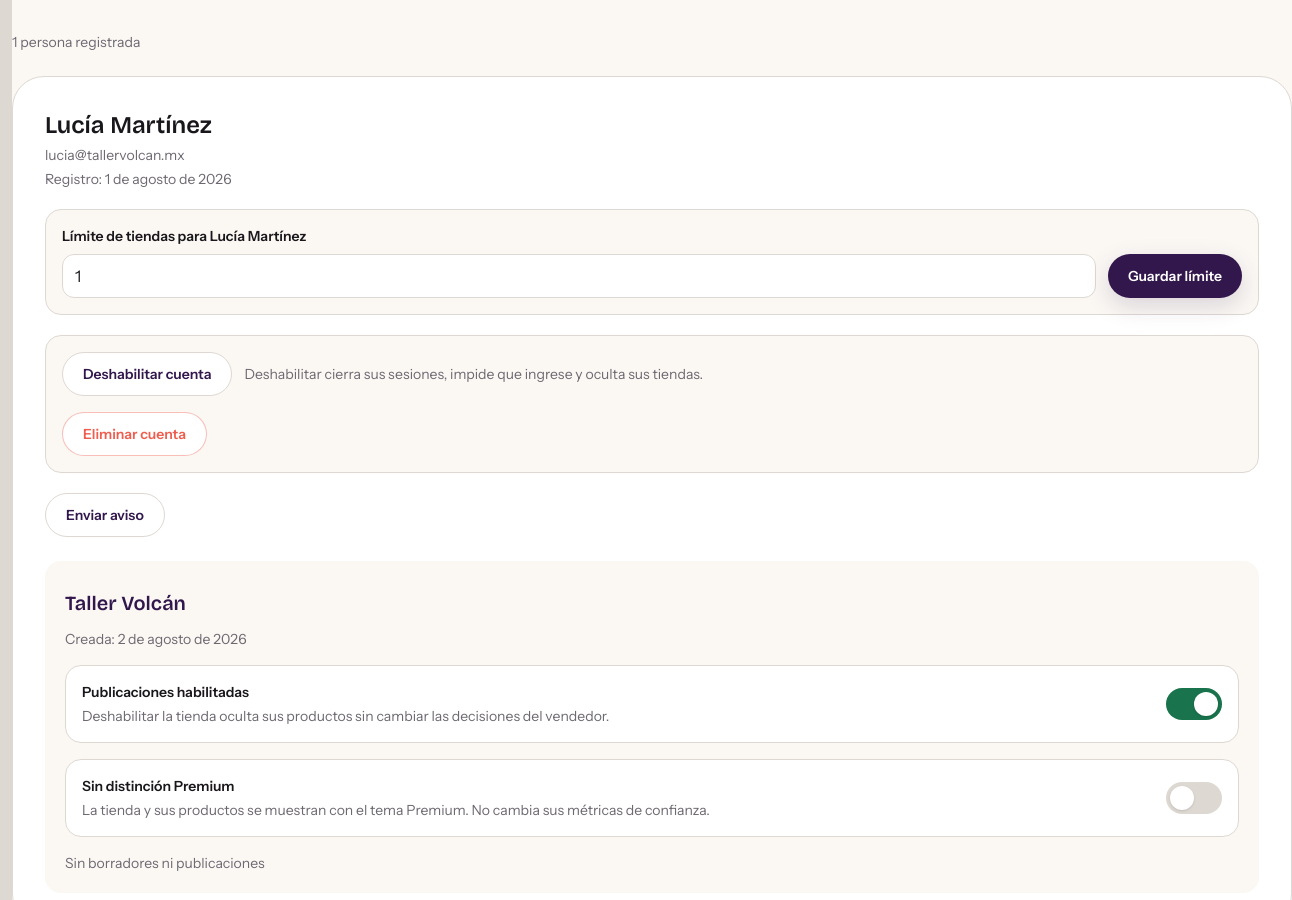
Test: MarketplaceUsers › disables the approval switch while its update is pending
Click the switch named "Publicaciones habilitadas" in the row of "Publicaciones habilitadas" at (1194, 704), box [1166, 688, 1222, 720]
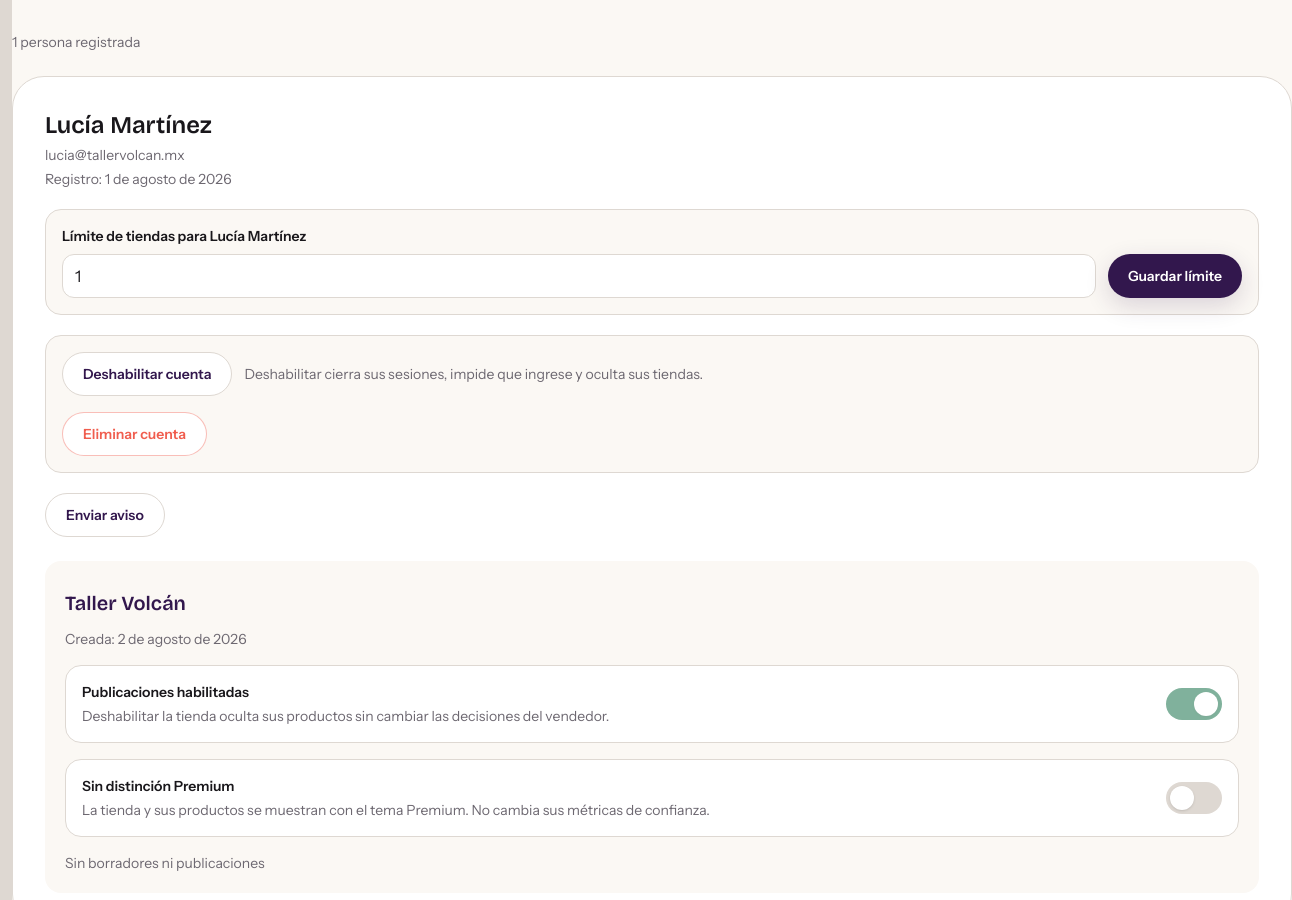
Check: the switch named "Publicaciones habilitadas" in the row of "Publicaciones habilitadas" is disabled, box [1166, 688, 1222, 720]
